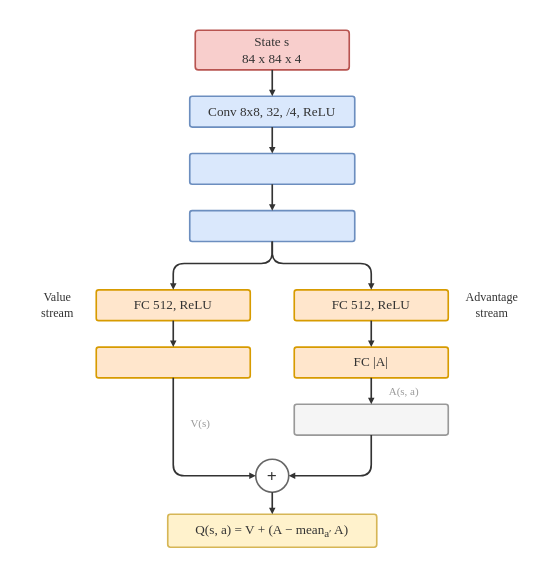
Image size: 554x576. Some labels were removed from this diagram. The box of each missing label's shape, as (x1, y1, x2, y2) in pixels:
A − mean a′ A: (293, 403, 449, 435)
Conv 3x3, 64, /1, ReLU: (188, 209, 355, 242)
Conv 4x4, 64, /2, ReLU: (188, 152, 355, 185)
FC 1: (95, 346, 251, 378)
